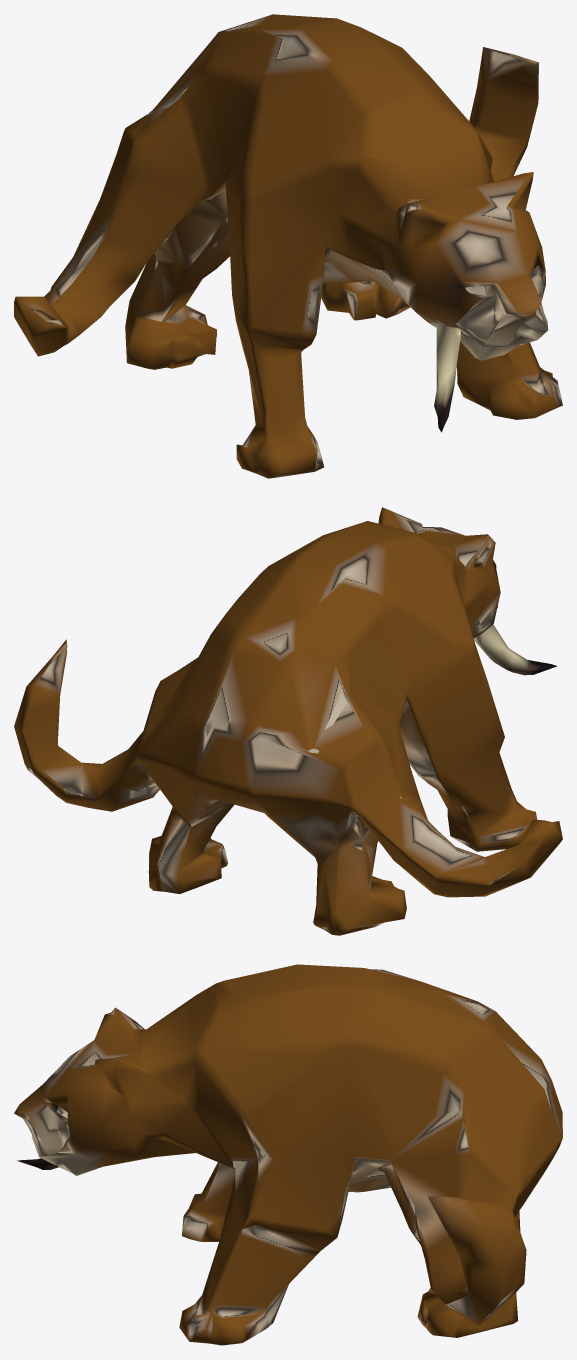
Rendered from gen3d-sabertooth-lod0.glb.
3 views of the same model, one above another, from view 1: azimuth 30°, elevation 25°; view 2: azimuth 150°, elevation 25°; view 3: azimuth 270°, elevation 25° (orthographic). The views are drawn at different scales.
Visible parts, largest first — view 1: part_0; view 2: part_0; view 3: part_0.
Part boxes in pixels (left/top/right/bottom): part_0: left=14, top=14, right=562, bottom=478; part_0: left=14, top=507, right=562, bottom=935; part_0: left=14, top=964, right=562, bottom=1345.
Size of the model in its own units: 1.69 by 0.9996 by 1.62.
